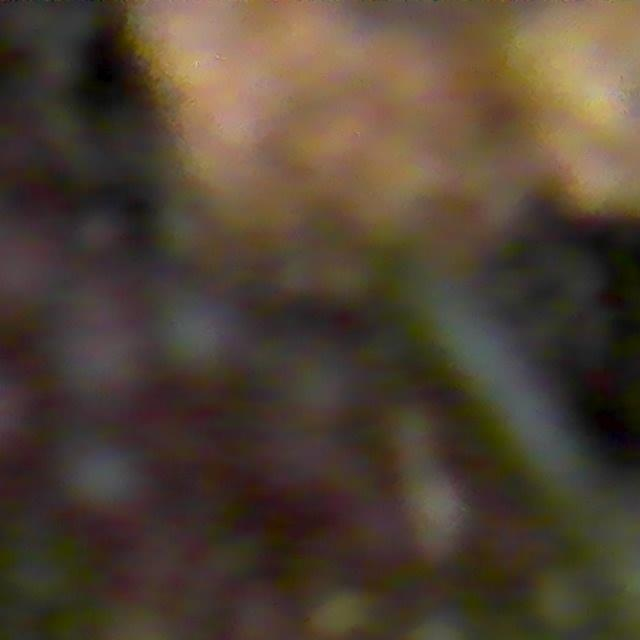SeaGrape: (152, 287, 243, 377), (61, 439, 146, 520), (533, 572, 595, 634), (310, 586, 375, 640), (72, 207, 126, 260)
